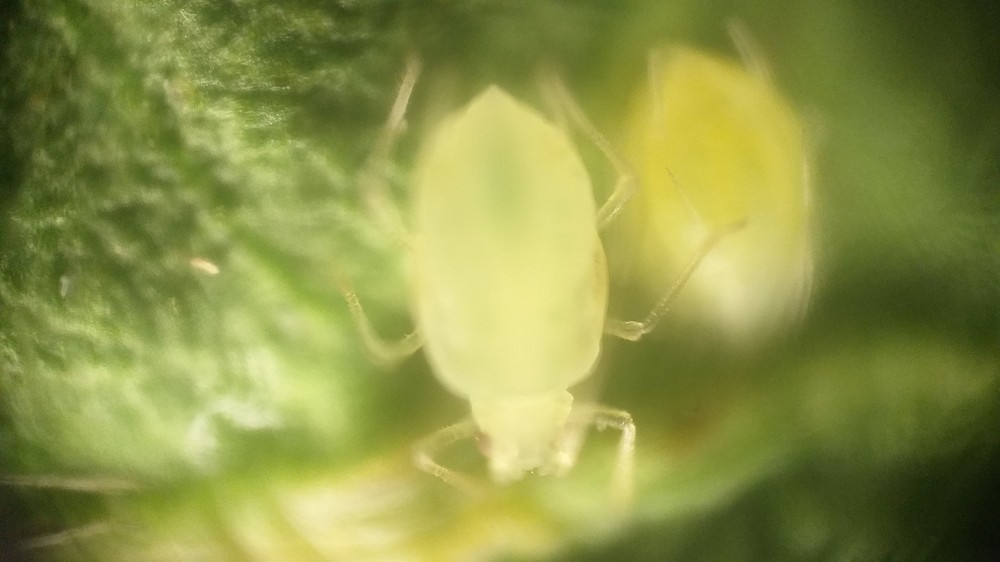Pulgon: (331, 58, 683, 535)
